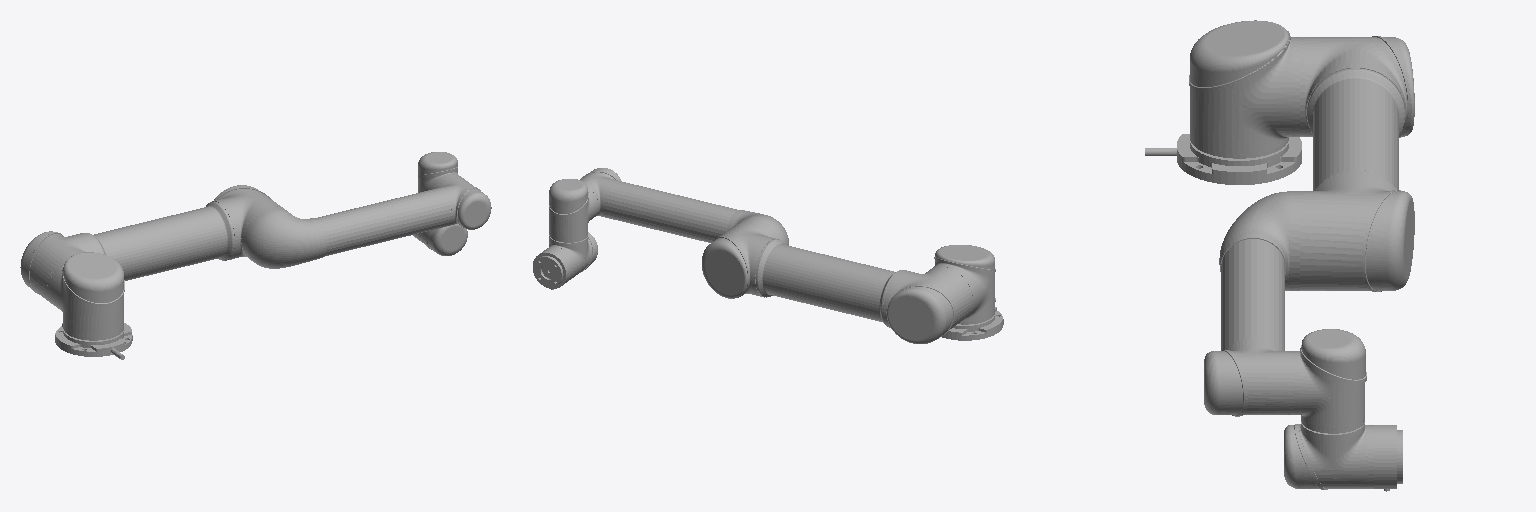
The robot description file, URDF, robot "ur5":
<?xml version="1.0" ?>
<!-- =================================================================================== -->
<!-- |    This document was autogenerated by xacro from urdf/ur5_robot.urdf.xacro      | -->
<!-- |    EDITING THIS FILE BY HAND IS NOT RECOMMENDED                                 | -->
<!-- =================================================================================== -->
<robot name="ur5" xmlns:xacro="http://www.ros.org/wiki/xacro">
  <!-- common stuff -->
  <gazebo>
    <plugin filename="libgazebo_ros_control.so" name="ros_control">
      <!--robotNamespace>/</robotNamespace-->
      <!--robotSimType>gazebo_ros_control/DefaultRobotHWSim</robotSimType-->
    </plugin>
    <!--
    <plugin name="gazebo_ros_power_monitor_controller" filename="libgazebo_ros_power_monitor.so">
      <alwaysOn>true</alwaysOn>
      <updateRate>1.0</updateRate>
      <timeout>5</timeout>
      <powerStateTopic>power_state</powerStateTopic>
      <powerStateRate>10.0</powerStateRate>
      <fullChargeCapacity>87.78</fullChargeCapacity>     
      <dischargeRate>-474</dischargeRate>
      <chargeRate>525</chargeRate>
      <dischargeVoltage>15.52</dischargeVoltage>
      <chargeVoltage>16.41</chargeVoltage>
    </plugin>
-->
  </gazebo>
  <!-- ur5 -->
  <!-- Inertia parameters -->
  <!-- This mass might be incorrect -->
  <!-- Kinematic model -->
  <!-- Properties from urcontrol.conf -->
  <!--
    DH for UR5:
    a = [0.00000, -0.42500, -0.39225,  0.00000,  0.00000,  0.0000]
    d = [0.089159,  0.00000,  0.00000,  0.10915,  0.09465,  0.0823]
    alpha = [ 1.570796327, 0, 0, 1.570796327, -1.570796327, 0 ]
    q_home_offset = [0, -1.570796327, 0, -1.570796327, 0, 0]
    joint_direction = [-1, -1, 1, 1, 1, 1]
    mass = [3.7000, 8.3930, 2.2750, 1.2190, 1.2190, 0.1879]
    center_of_mass = [ [0, -0.02561, 0.00193], [0.2125, 0, 0.11336], [0.11993, 0.0, 0.0265], [0, -0.0018, 0.01634], [0, 0.0018,0.01634], [0, 0, -0.001159] ]
  -->
  <!-- Arbitrary offsets for shoulder/elbow joints -->
  <!-- measured from model -->
  <!-- measured from model -->
  <!-- link lengths used in model -->
  <!--property name="shoulder_height" value="0.089159" /-->
  <!--property name="shoulder_offset" value="0.13585" /-->
  <!-- shoulder_offset - elbow_offset + wrist_1_length = 0.10915 -->
  <!--property name="upper_arm_length" value="0.42500" /-->
  <!--property name="elbow_offset" value="0.1197" /-->
  <!-- CAD measured -->
  <!--property name="forearm_length" value="0.39225" /-->
  <!--property name="wrist_1_length" value="0.093" /-->
  <!-- CAD measured -->
  <!--property name="wrist_2_length" value="0.09465" /-->
  <!-- In CAD this distance is 0.930, but in the spec it is 0.09465 -->
  <!--property name="wrist_3_length" value="0.0823" /-->
  <!-- manually measured -->
  <!-- manually measured -->
  <!-- manually measured -->
  <!-- manually measured -->
  <!-- manually measured -->
  <!-- arm -->
  <link name="base_link">
    <visual>
      <geometry>
        <mesh filename="package://ur_description/meshes/ur5/visual/Base.dae"/>
      </geometry>
      <material name="LightGrey">
        <color rgba="0.7 0.7 0.7 1.0"/>
      </material>
    </visual>
    <collision>
      <geometry>
        <mesh filename="package://ur_description/meshes/ur5/collision/base.stl"/>
      </geometry>
    </collision>
    <inertial>
      <mass value="4.0"/>
      <origin rpy="0 0 0" xyz="0.0 0.0 0.0"/>
      <inertia ixx="0.00443333156" ixy="0.0" ixz="0.0" iyy="0.00443333156" iyz="0.0" izz="0.0072"/>
    </inertial>
  </link>
  <joint name="shoulder_pan_joint" type="revolute">
    <parent link="base_link"/>
    <child link="shoulder_link"/>
    <origin rpy="0.0 0.0 0.0" xyz="0.0 0.0 0.089159"/>
    <axis xyz="0 0 1"/>
    <limit effort="150.0" lower="-3.14159265" upper="3.14159265" velocity="3.15"/>
    <dynamics damping="0.0" friction="0.0"/>
  </joint>
  <link name="shoulder_link">
    <visual>
      <geometry>
        <mesh filename="package://ur_description/meshes/ur5/visual/Shoulder.dae"/>
      </geometry>
      <material name="LightGrey">
        <color rgba="0.7 0.7 0.7 1.0"/>
      </material>
    </visual>
    <collision>
      <geometry>
        <mesh filename="package://ur_description/meshes/ur5/collision/shoulder.stl"/>
      </geometry>
    </collision>
    <inertial>
      <mass value="3.7"/>
      <origin rpy="0 0 0" xyz="0.0 0.0 0.0"/>
      <inertia ixx="0.010267495893" ixy="0.0" ixz="0.0" iyy="0.010267495893" iyz="0.0" izz="0.00666"/>
    </inertial>
  </link>
  <joint name="shoulder_lift_joint" type="revolute">
    <parent link="shoulder_link"/>
    <child link="upper_arm_link"/>
    <origin rpy="0.0 1.570796325 0.0" xyz="0.0 0.13585 0.0"/>
    <axis xyz="0 1 0"/>
    <limit effort="150.0" lower="-3.14159265" upper="3.14159265" velocity="3.15"/>
    <dynamics damping="0.0" friction="0.0"/>
  </joint>
  <link name="upper_arm_link">
    <visual>
      <geometry>
        <mesh filename="package://ur_description/meshes/ur5/visual/UpperArm.dae"/>
      </geometry>
      <material name="LightGrey">
        <color rgba="0.7 0.7 0.7 1.0"/>
      </material>
    </visual>
    <collision>
      <geometry>
        <mesh filename="package://ur_description/meshes/ur5/collision/upper_arm.stl"/>
      </geometry>
    </collision>
    <inertial>
      <mass value="8.393"/>
      <origin rpy="0 0 0" xyz="0.0 0.0 0.28"/>
      <inertia ixx="0.22689067591" ixy="0.0" ixz="0.0" iyy="0.22689067591" iyz="0.0" izz="0.0151074"/>
    </inertial>
  </link>
  <joint name="elbow_joint" type="revolute">
    <parent link="upper_arm_link"/>
    <child link="forearm_link"/>
    <origin rpy="0.0 0.0 0.0" xyz="0.0 -0.1197 0.425"/>
    <axis xyz="0 1 0"/>
    <limit effort="150.0" lower="-3.14159265" upper="3.14159265" velocity="3.15"/>
    <dynamics damping="0.0" friction="0.0"/>
  </joint>
  <link name="forearm_link">
    <visual>
      <geometry>
        <mesh filename="package://ur_description/meshes/ur5/visual/Forearm.dae"/>
      </geometry>
      <material name="LightGrey">
        <color rgba="0.7 0.7 0.7 1.0"/>
      </material>
    </visual>
    <collision>
      <geometry>
        <mesh filename="package://ur_description/meshes/ur5/collision/forearm.stl"/>
      </geometry>
    </collision>
    <inertial>
      <mass value="2.275"/>
      <origin rpy="0 0 0" xyz="0.0 0.0 0.25"/>
      <inertia ixx="0.049443313556" ixy="0.0" ixz="0.0" iyy="0.049443313556" iyz="0.0" izz="0.004095"/>
    </inertial>
  </link>
  <joint name="wrist_1_joint" type="revolute">
    <parent link="forearm_link"/>
    <child link="wrist_1_link"/>
    <origin rpy="0.0 1.570796325 0.0" xyz="0.0 0.0 0.39225"/>
    <axis xyz="0 1 0"/>
    <limit effort="28.0" lower="-3.14159265" upper="3.14159265" velocity="3.2"/>
    <dynamics damping="0.0" friction="0.0"/>
  </joint>
  <link name="wrist_1_link">
    <visual>
      <geometry>
        <mesh filename="package://ur_description/meshes/ur5/visual/Wrist1.dae"/>
      </geometry>
      <material name="LightGrey">
        <color rgba="0.7 0.7 0.7 1.0"/>
      </material>
    </visual>
    <collision>
      <geometry>
        <mesh filename="package://ur_description/meshes/ur5/collision/wrist_1.stl"/>
      </geometry>
    </collision>
    <inertial>
      <mass value="1.219"/>
      <origin rpy="0 0 0" xyz="0.0 0.0 0.0"/>
      <inertia ixx="0.111172755531" ixy="0.0" ixz="0.0" iyy="0.111172755531" iyz="0.0" izz="0.21942"/>
    </inertial>
  </link>
  <joint name="wrist_2_joint" type="revolute">
    <parent link="wrist_1_link"/>
    <child link="wrist_2_link"/>
    <origin rpy="0.0 0.0 0.0" xyz="0.0 0.093 0.0"/>
    <axis xyz="0 0 1"/>
    <limit effort="28.0" lower="-3.14159265" upper="3.14159265" velocity="3.2"/>
    <dynamics damping="0.0" friction="0.0"/>
  </joint>
  <link name="wrist_2_link">
    <visual>
      <geometry>
        <mesh filename="package://ur_description/meshes/ur5/visual/Wrist2.dae"/>
      </geometry>
      <material name="LightGrey">
        <color rgba="0.7 0.7 0.7 1.0"/>
      </material>
    </visual>
    <collision>
      <geometry>
        <mesh filename="package://ur_description/meshes/ur5/collision/wrist_2.stl"/>
      </geometry>
    </collision>
    <inertial>
      <mass value="1.219"/>
      <origin rpy="0 0 0" xyz="0.0 0.0 0.0"/>
      <inertia ixx="0.111172755531" ixy="0.0" ixz="0.0" iyy="0.111172755531" iyz="0.0" izz="0.21942"/>
    </inertial>
  </link>
  <joint name="wrist_3_joint" type="revolute">
    <parent link="wrist_2_link"/>
    <child link="wrist_3_link"/>
    <origin rpy="0.0 0.0 0.0" xyz="0.0 0.0 0.09465"/>
    <axis xyz="0 1 0"/>
    <limit effort="28.0" lower="-3.14159265" upper="3.14159265" velocity="3.2"/>
    <dynamics damping="0.0" friction="0.0"/>
  </joint>
  <link name="wrist_3_link">
    <visual>
      <geometry>
        <mesh filename="package://ur_description/meshes/ur5/visual/Wrist3.dae"/>
      </geometry>
      <material name="LightGrey">
        <color rgba="0.7 0.7 0.7 1.0"/>
      </material>
    </visual>
    <collision>
      <geometry>
        <mesh filename="package://ur_description/meshes/ur5/collision/wrist_3.stl"/>
      </geometry>
    </collision>
    <inertial>
      <mass value="0.1879"/>
      <origin rpy="0 0 0" xyz="0.0 0.0 0.0"/>
      <inertia ixx="0.0171364731454" ixy="0.0" ixz="0.0" iyy="0.0171364731454" iyz="0.0" izz="0.033822"/>
    </inertial>
  </link>
  <joint name="ee_fixed_joint" type="fixed">
    <parent link="wrist_3_link"/>
    <child link="ee_link"/>
    <origin rpy="0.0 0.0 1.570796325" xyz="0.0 0.0823 0.0"/>
  </joint>
  <link name="ee_link">
    <collision>
      <geometry>
        <box size="0.01 0.01 0.01"/>
      </geometry>
      <origin rpy="0 0 0" xyz="-0.01 0 0"/>
    </collision>
  </link>
  <transmission name="shoulder_pan_trans">
    <type>transmission_interface/SimpleTransmission</type>
    <joint name="shoulder_pan_joint">
      <hardwareInterface>EffortJointInterface</hardwareInterface>
    </joint>
    <actuator name="shoulder_pan_motor">
      <mechanicalReduction>1</mechanicalReduction>
    </actuator>
  </transmission>
  <transmission name="shoulder_lift_trans">
    <type>transmission_interface/SimpleTransmission</type>
    <joint name="shoulder_lift_joint">
      <hardwareInterface>EffortJointInterface</hardwareInterface>
    </joint>
    <actuator name="shoulder_lift_motor">
      <mechanicalReduction>1</mechanicalReduction>
    </actuator>
  </transmission>
  <transmission name="elbow_trans">
    <type>transmission_interface/SimpleTransmission</type>
    <joint name="elbow_joint">
      <hardwareInterface>EffortJointInterface</hardwareInterface>
    </joint>
    <actuator name="elbow_motor">
      <mechanicalReduction>1</mechanicalReduction>
    </actuator>
  </transmission>
  <transmission name="wrist_1_trans">
    <type>transmission_interface/SimpleTransmission</type>
    <joint name="wrist_1_joint">
      <hardwareInterface>EffortJointInterface</hardwareInterface>
    </joint>
    <actuator name="wrist_1_motor">
      <mechanicalReduction>1</mechanicalReduction>
    </actuator>
  </transmission>
  <transmission name="wrist_2_trans">
    <type>transmission_interface/SimpleTransmission</type>
    <joint name="wrist_2_joint">
      <hardwareInterface>EffortJointInterface</hardwareInterface>
    </joint>
    <actuator name="wrist_2_motor">
      <mechanicalReduction>1</mechanicalReduction>
    </actuator>
  </transmission>
  <transmission name="wrist_3_trans">
    <type>transmission_interface/SimpleTransmission</type>
    <joint name="wrist_3_joint">
      <hardwareInterface>EffortJointInterface</hardwareInterface>
    </joint>
    <actuator name="wrist_3_motor">
      <mechanicalReduction>1</mechanicalReduction>
    </actuator>
  </transmission>
  <!-- nothing to do here at the moment -->
  <link name="world"/>
  <joint name="world_joint" type="fixed">
    <parent link="world"/>
    <child link="base_link"/>
    <origin rpy="0.0 0.0 0.0" xyz="0.0 0.0 0.0"/>
  </joint>
</robot>

--- Render facts (derived) ---
Views: 3 orthographic renders of the robot side by side, from view 1: azimuth 30°, elevation 25°; view 2: azimuth 150°, elevation 25°; view 3: azimuth 270°, elevation 25°.
Model ur5 with 9 links and 8 joints (6 revolute, 2 fixed), rooted at world, posed every joint at zero.
Visible links, largest first — view 1: upper_arm_link, forearm_link, shoulder_link, base_link, wrist_1_link, wrist_2_link; view 2: upper_arm_link, forearm_link, shoulder_link, wrist_1_link, wrist_3_link, wrist_2_link, base_link; view 3: upper_arm_link, forearm_link, shoulder_link, wrist_1_link, wrist_2_link, base_link, wrist_3_link.
Link boxes in pixels (x1,y1,x2,y2): upper_arm_link: [20, 185, 283, 305]; forearm_link: [243, 175, 491, 268]; shoulder_link: [49, 252, 124, 340]; base_link: [55, 323, 132, 359]; wrist_1_link: [418, 152, 458, 192]; wrist_2_link: [413, 224, 467, 255]; upper_arm_link: [702, 220, 972, 343]; forearm_link: [580, 168, 788, 245]; shoulder_link: [933, 245, 995, 324]; wrist_1_link: [549, 179, 597, 242]; wrist_3_link: [533, 248, 572, 289]; wrist_2_link: [547, 232, 597, 279]; base_link: [942, 298, 1003, 340]; upper_arm_link: [1300, 36, 1414, 291]; forearm_link: [1204, 191, 1299, 416]; shoulder_link: [1189, 20, 1299, 158]; wrist_1_link: [1294, 329, 1366, 433]; wrist_2_link: [1284, 422, 1373, 489]; base_link: [1145, 134, 1301, 184]; wrist_3_link: [1374, 425, 1402, 491].
Bounding box of the posed robot: 0.9295 × 0.3144 × 0.2062 m (x, y, z).
Meshes: 7 distinct files referenced, 7 mesh visuals loaded (7 Collada DAE).